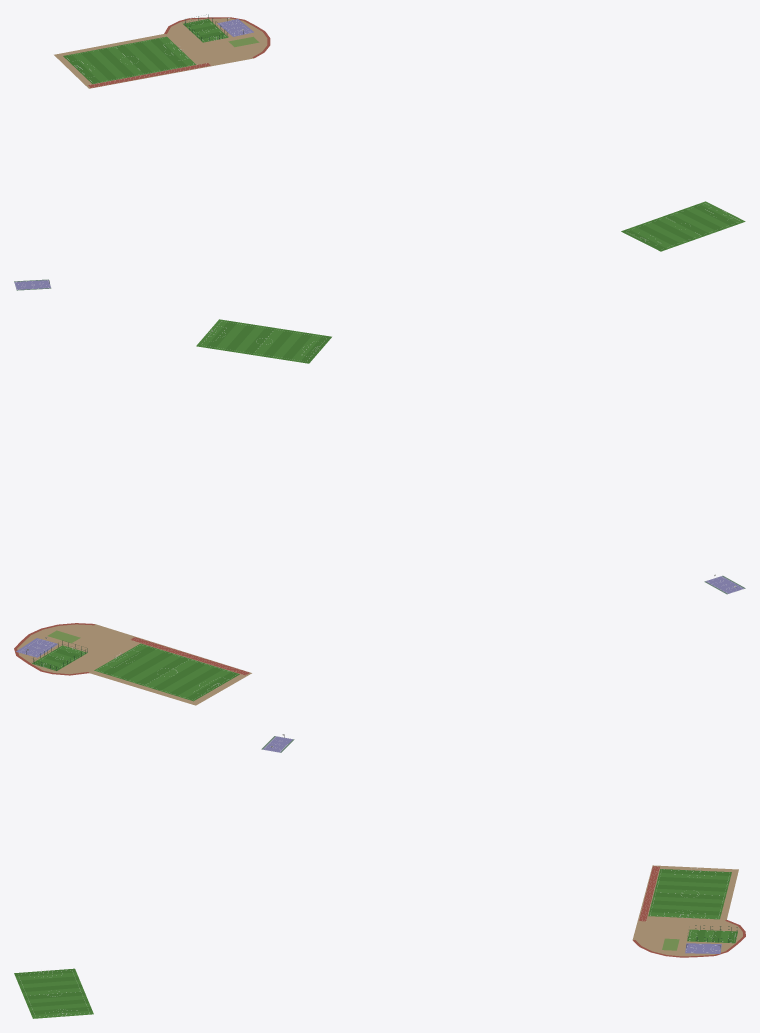
The picture shows the model from 3 angles, top to bottom: view 1: azimuth 30°, elevation 25°; view 2: azimuth 150°, elevation 25°; view 3: azimuth 270°, elevation 25°; orthographic projection. The views are drawn at different scales.
Visible parts, largest first — view 1: sports; view 2: sports; view 3: sports.
Part boxes in pixels (<box>): sports: <box>14,14,745,290</box>; sports: <box>14,319,745,705</box>; sports: <box>14,734,745,1018</box>.
Bounding box in the file's own units: 586 × 13.54 × 618.
